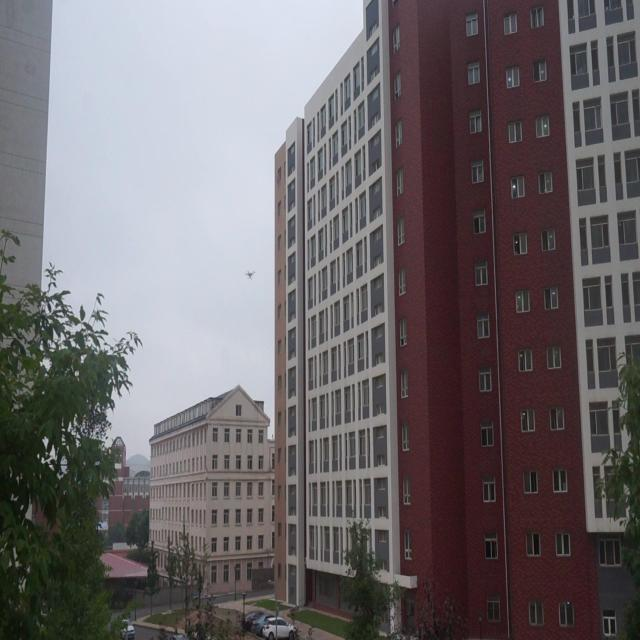drone: (242, 265, 258, 286)
